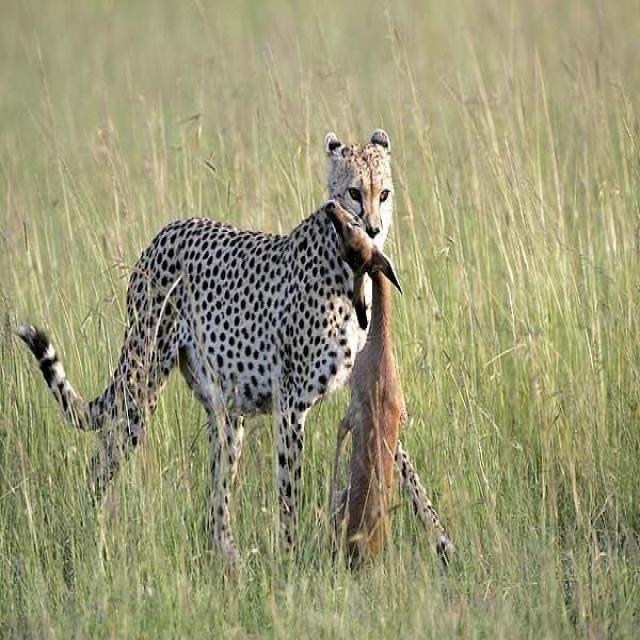Carnivorous: (18, 133, 393, 582)
